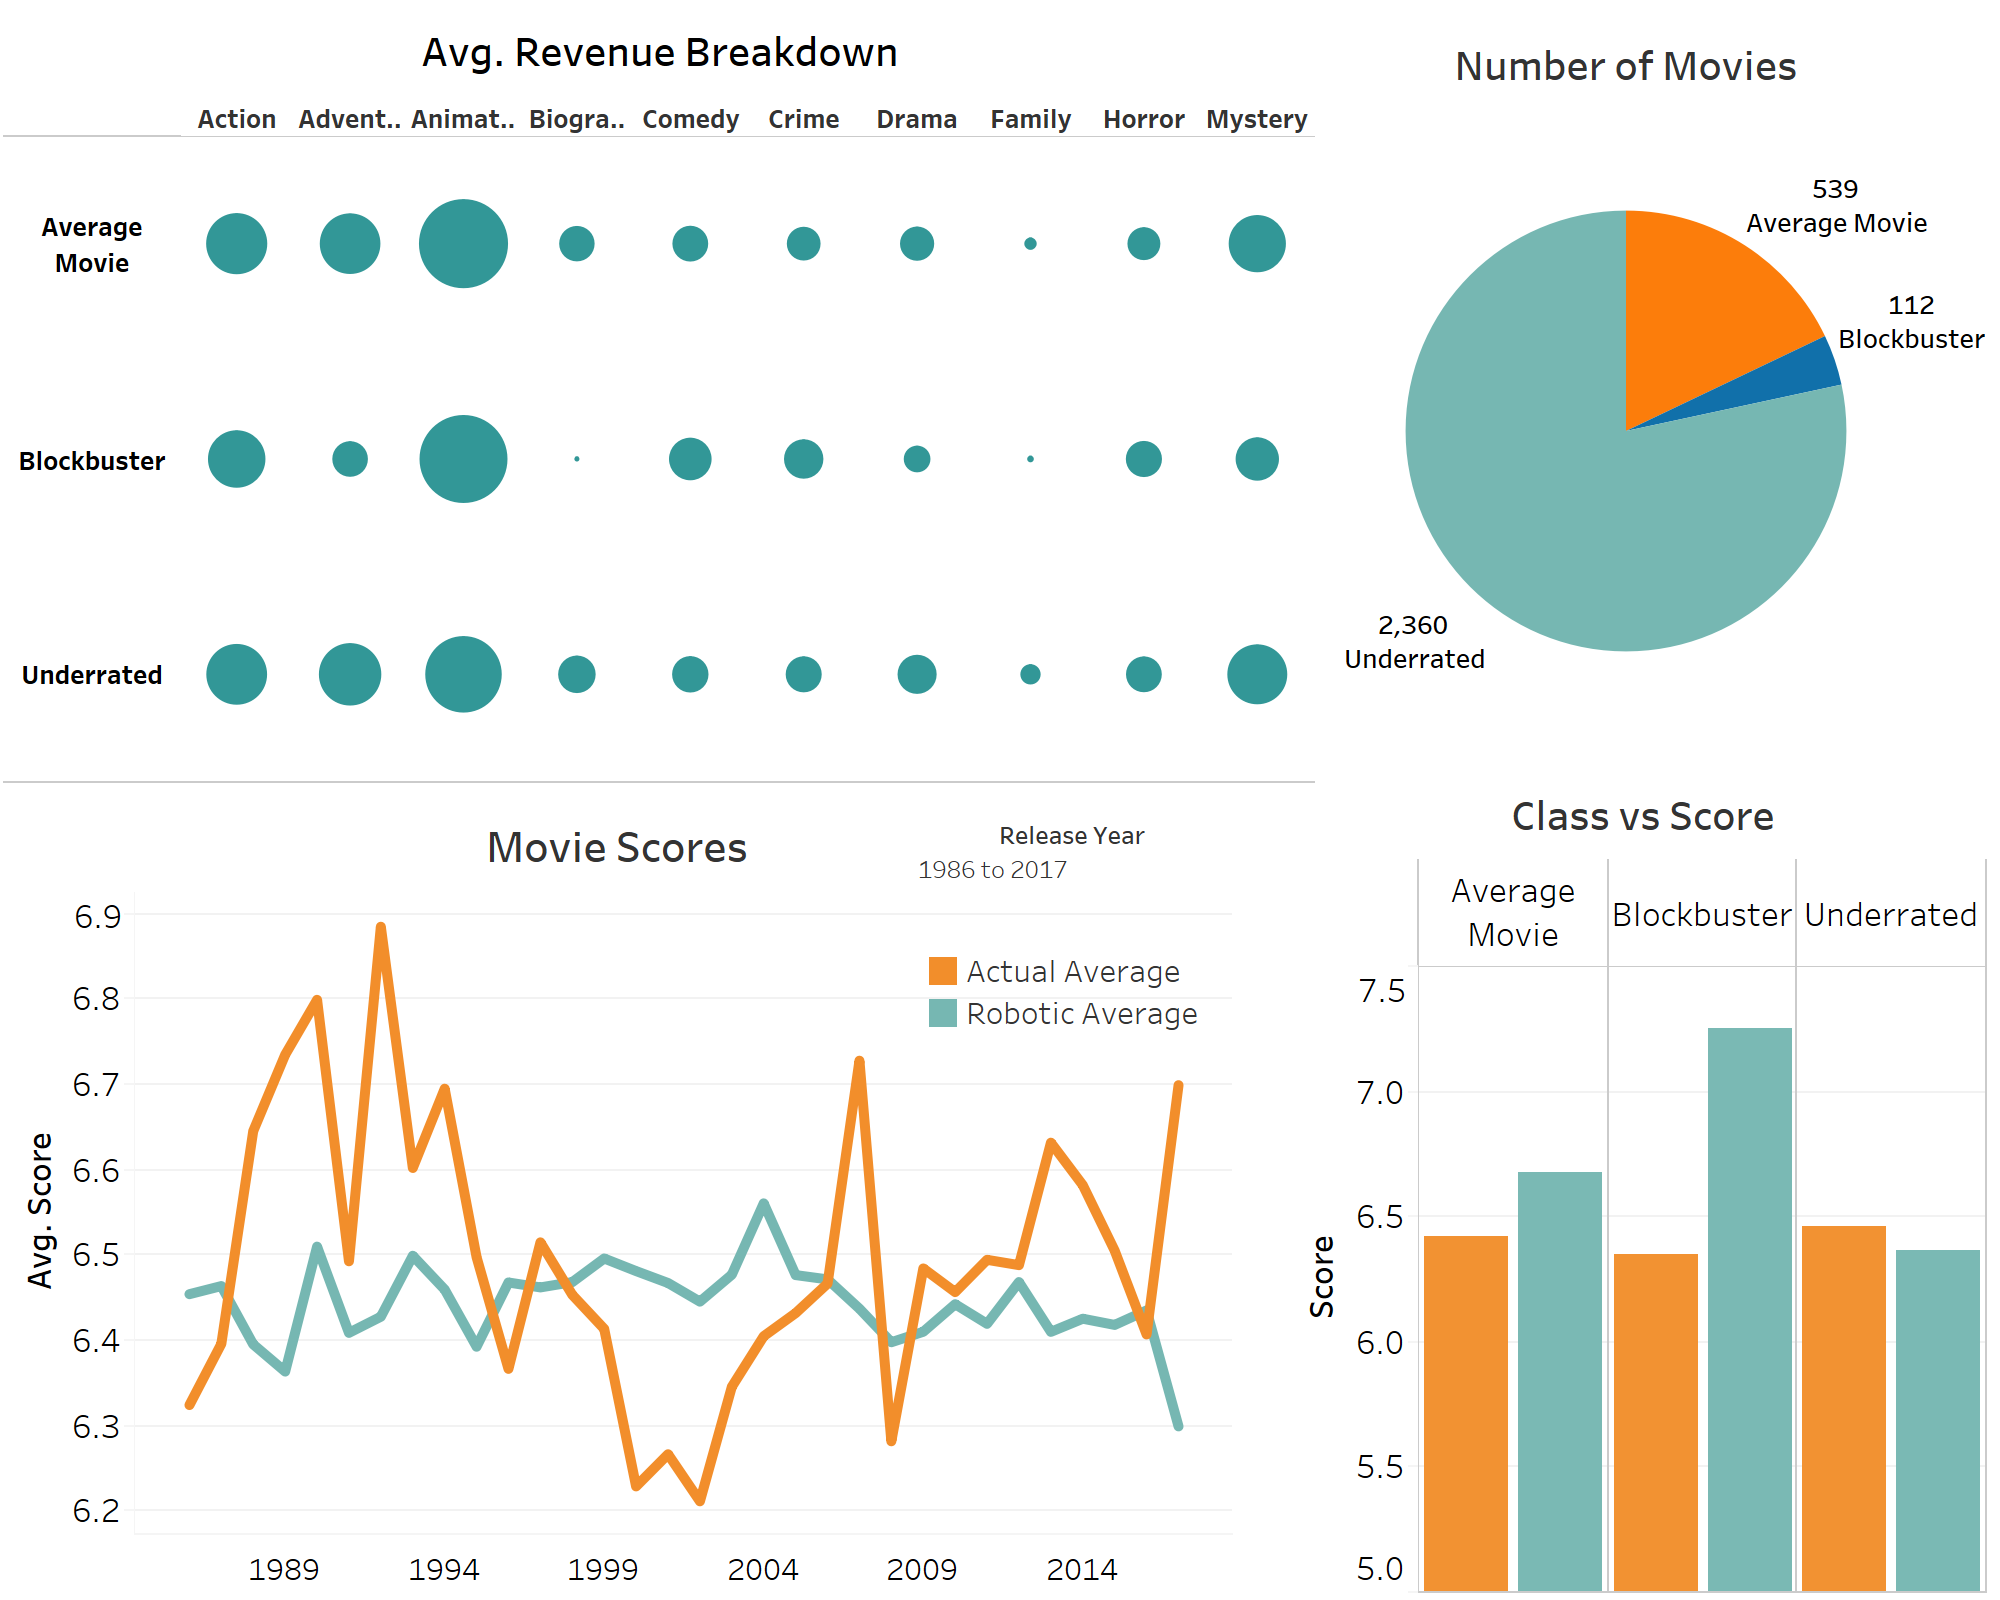

What the dashboard file says about the page in this screenshot:
{"tool":"tableau","page":{"name":"ML (3)","canvas":[1000,800],"ordinal":3},"visuals":[{"type":"worksheet","title":"money vs genre","mark":"Pie","rows":["filter_pop"],"cols":["genre"],"box":[2,5,656,387]},{"type":"worksheet","title":"Class count","mark":"Automatic","rows":["Interactive_ML_Data.csv_D98851ABAED14815910729EB9FCC82DC"],"cols":["filter_pop"],"box":[669,18,333,374]},{"type":"worksheet","title":"Class vs Score","mark":"Automatic","cols":["filter_pop"],"box":[649,387,345,410]},{"type":"worksheet","title":"Movie Scores","mark":"Automatic","cols":["release_year"],"box":[1,402,615,395]},{"type":"worksheet","title":"Movie Scores","mark":"Automatic","cols":["release_year"],"param":"[federated.1s57mr21bv3s5y17k1c7v0nprqpc].[tyr:release_year:qk]","box":[456,408,160,61]},{"type":"worksheet","title":"Movie Scores","mark":"Automatic","cols":["release_year"],"param":"[federated.1s57mr21bv3s5y17k1c7v0nprqpc].[:Measure Names]","box":[461,475,143,64]}]}

Visuals, with their boxes in screenshot pixels (x1, y1, x2, y2), scaled from the page's 1000x800 canvas onto the 2000x1600 screenshot:
"money vs genre" worksheet (Pie marks): pyautogui.locateOnScreen(4, 10, 1316, 784)
"Class count" worksheet: pyautogui.locateOnScreen(1338, 36, 1999, 784)
"Class vs Score" worksheet: pyautogui.locateOnScreen(1298, 774, 1988, 1594)
"Movie Scores" worksheet: pyautogui.locateOnScreen(2, 804, 1232, 1594)
"Movie Scores" worksheet: pyautogui.locateOnScreen(912, 816, 1232, 938)
"Movie Scores" worksheet: pyautogui.locateOnScreen(922, 950, 1208, 1078)
